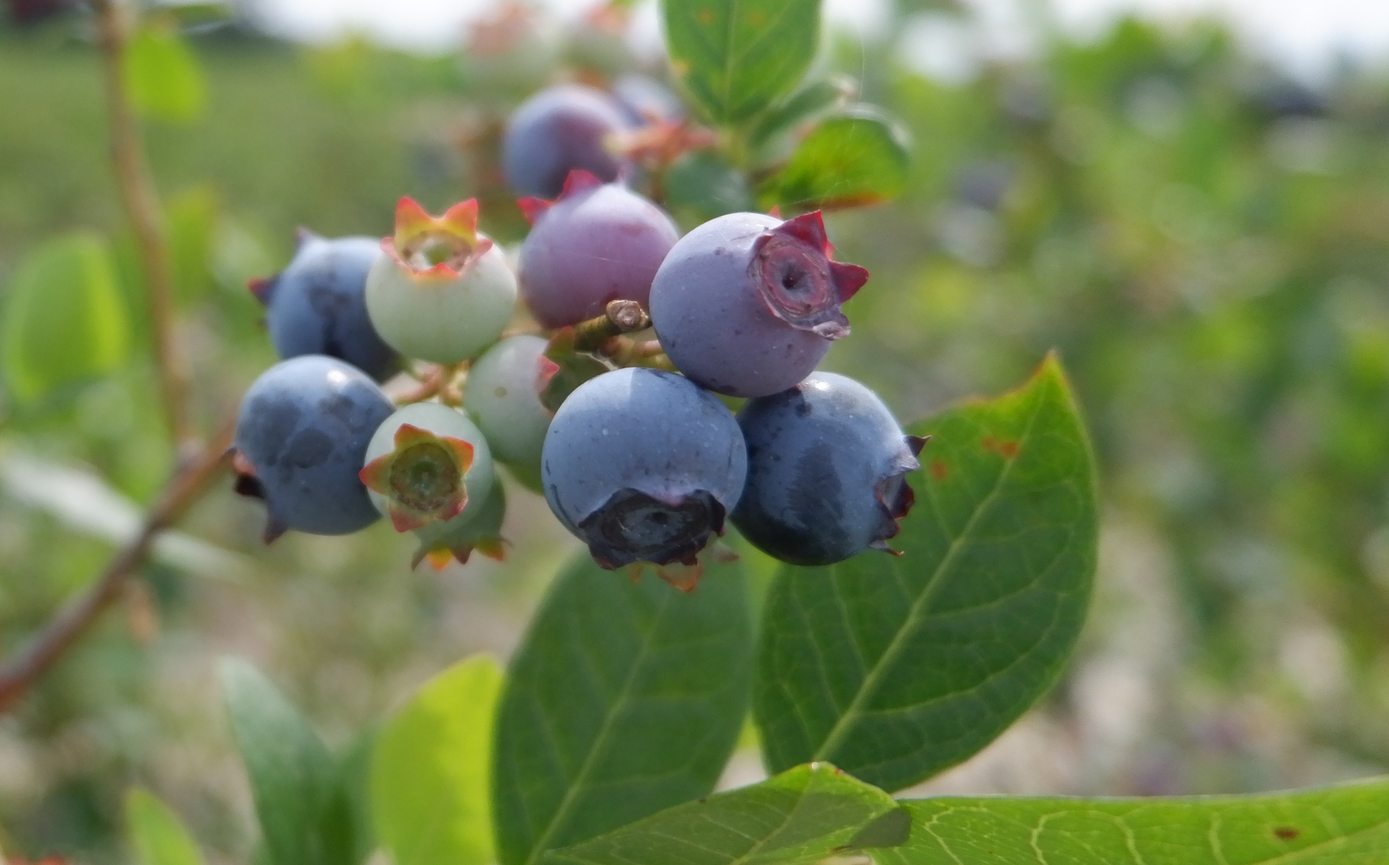Immature: (369, 193, 513, 363), (462, 323, 621, 470), (518, 182, 670, 327), (362, 404, 497, 538), (411, 464, 507, 572)
Mature: (544, 372, 743, 565), (653, 215, 857, 392), (738, 379, 917, 565), (234, 356, 387, 535), (252, 231, 392, 377), (500, 87, 647, 200)
